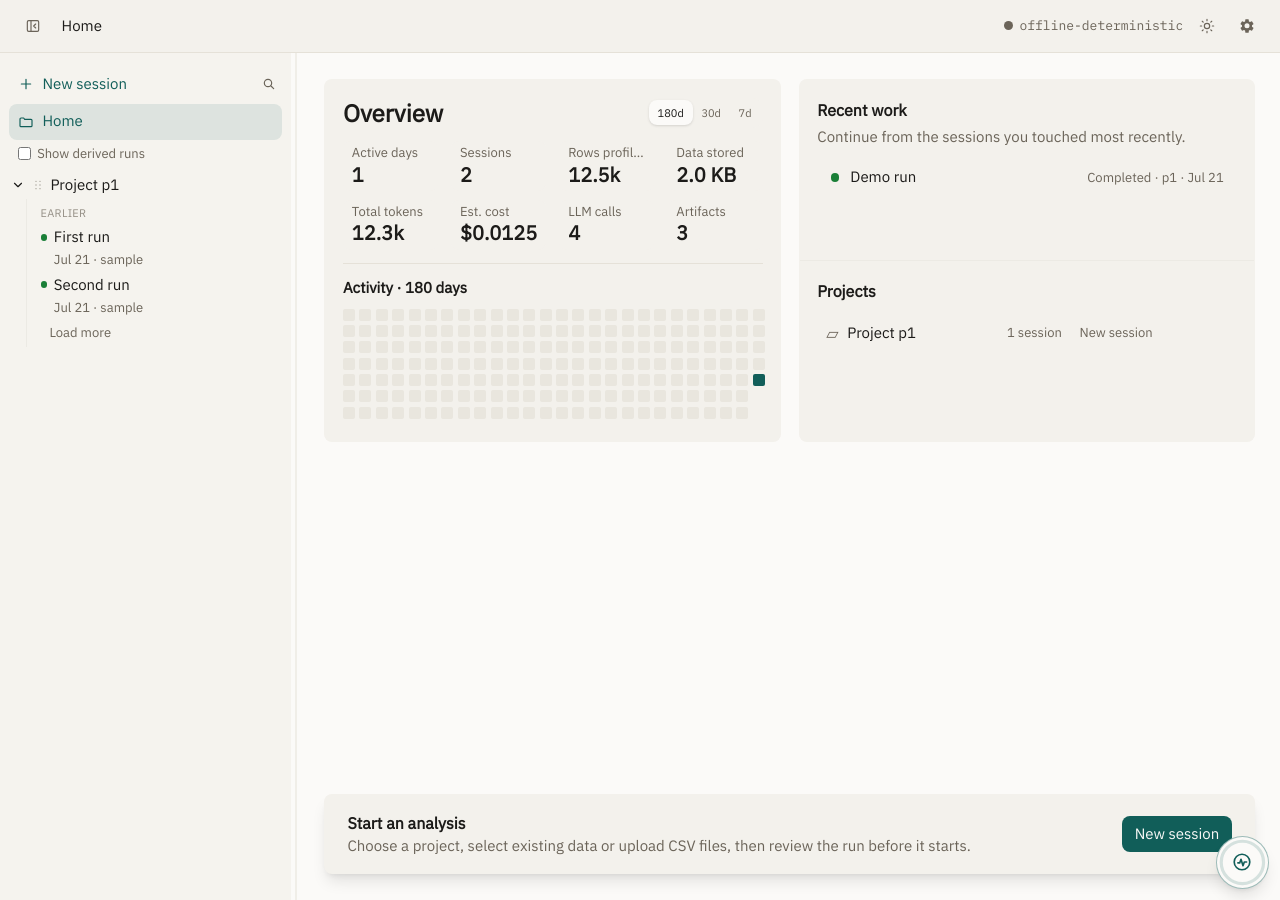
Test case: Session Rail with real API › lists project sessions and loads the next cursor page
Expected: the text "First run" is shown, 54,227 -> 110,246
Expected: the text "Second run" is shown, 54,274 -> 130,294
Click the button "Load more": click(80, 333) 41,319 -> 120,347
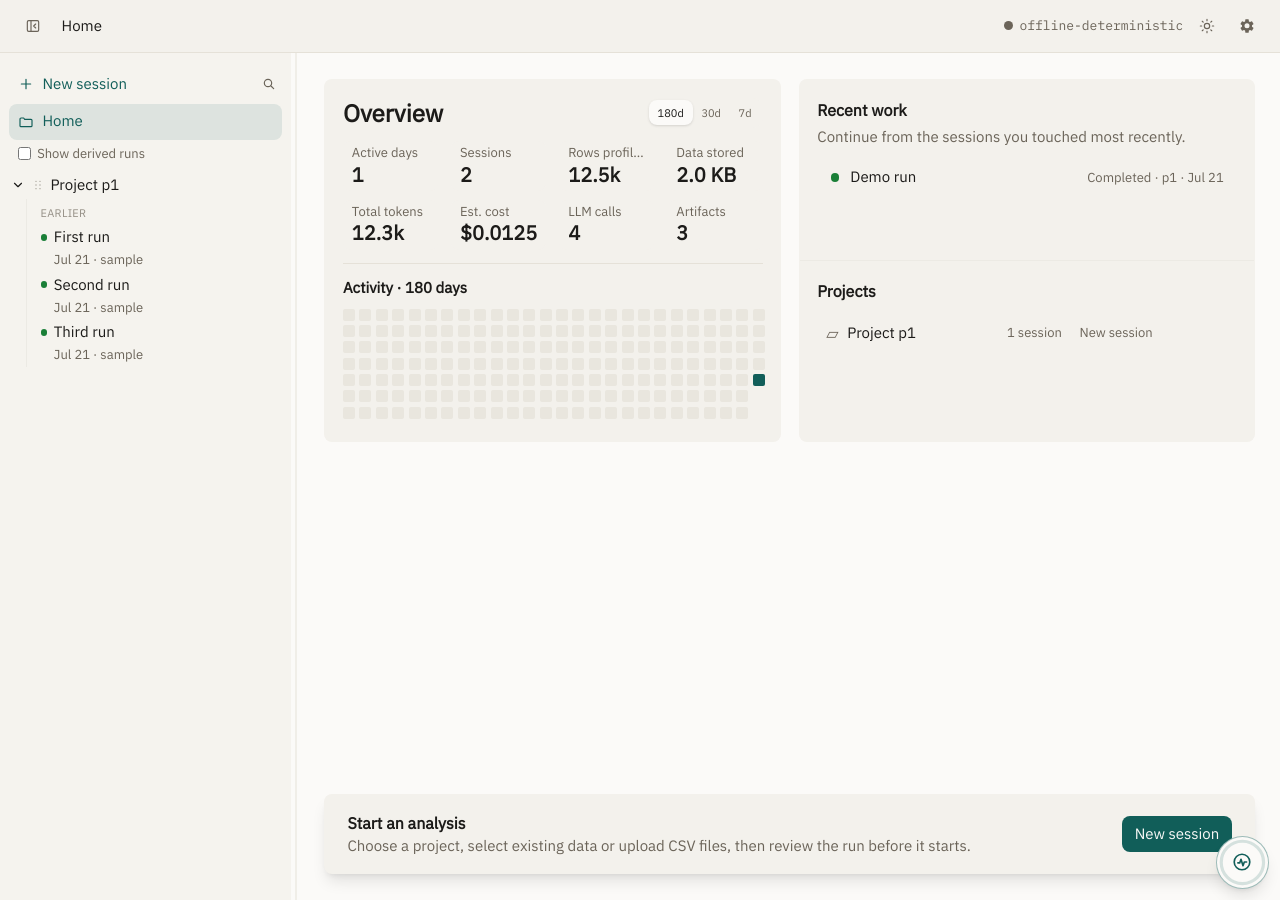
Now the text "Third run" is shown, box 54,322 -> 115,341
Now the button "Load more" is gone
